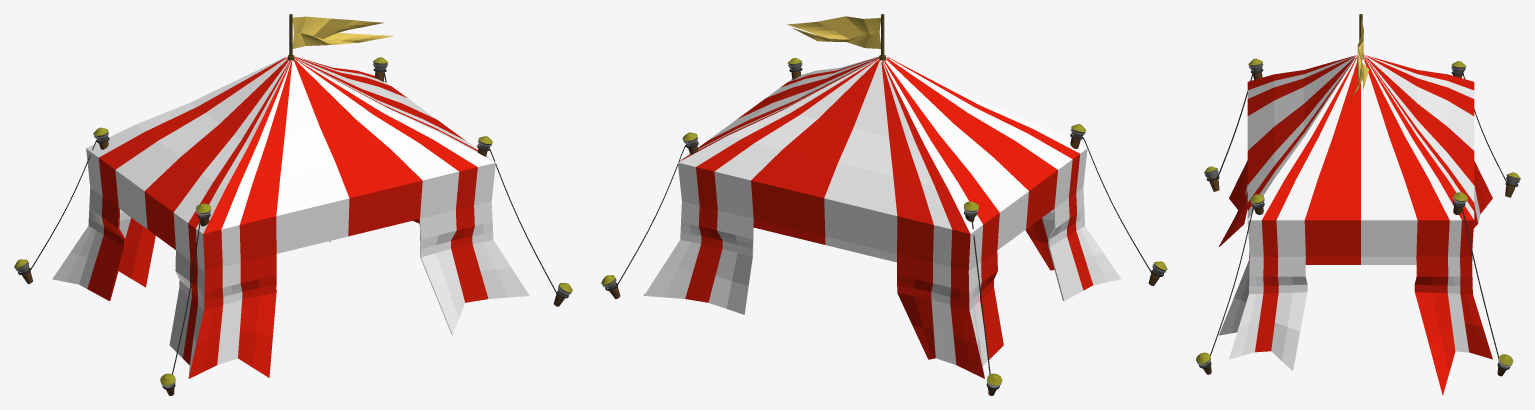
Rendered from tienda.glb.
3 views of the same model, side by side, from view 1: azimuth 30°, elevation 25°; view 2: azimuth 150°, elevation 25°; view 3: azimuth 270°, elevation 25° (orthographic). The views are drawn at different scales.
Visible parts, largest first — view 1: Cube, Plane; view 2: Cube, Plane; view 3: Cube, Plane, Cylinder.001.
Boxes of the visible parts, x1,y1,x2,y2 form: Cube: [52, 56, 529, 378]; Plane: [292, 16, 394, 48]; Cube: [644, 56, 1120, 378]; Plane: [787, 16, 880, 48]; Cube: [1219, 55, 1492, 395]; Plane: [1350, 19, 1369, 98]; Cylinder.001: [1452, 201, 1499, 358].
Size of the model in its own units: 19.84 by 13.68 by 13.97.
